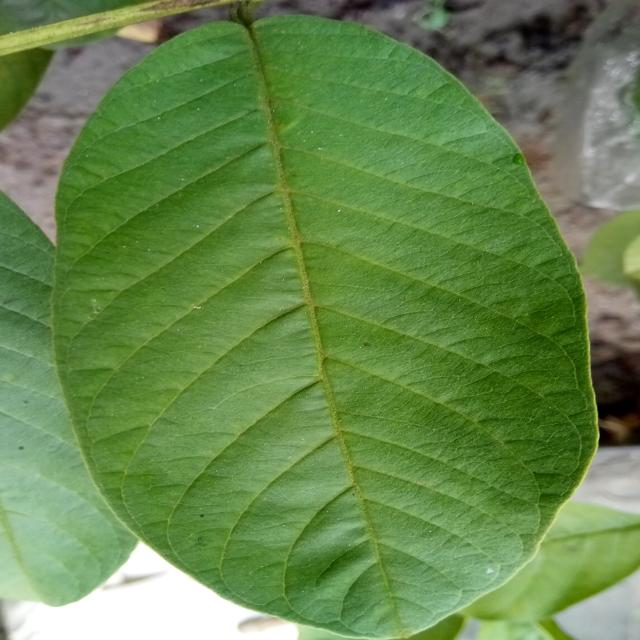Disease Free: (52, 16, 596, 639), (0, 195, 138, 605), (40, 424, 44, 428)
